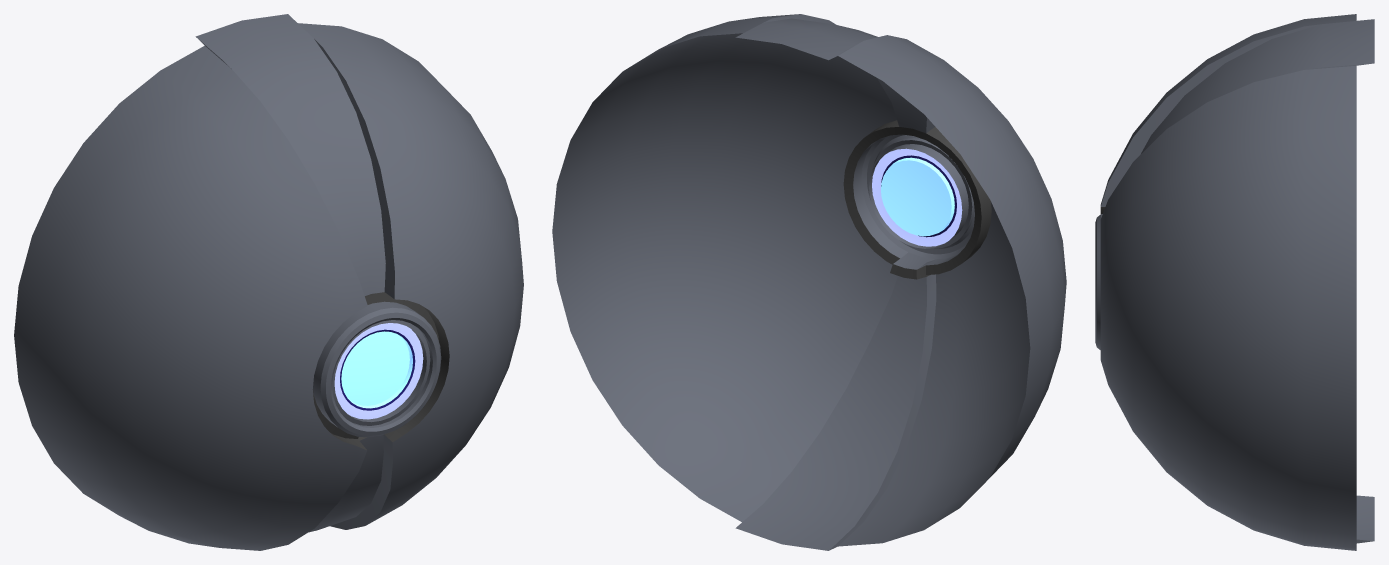
The model's file is SM_eye_scaner.fbx.
3 renders of one model, left to right at view 1: azimuth 30°, elevation 25°; view 2: azimuth 150°, elevation 25°; view 3: azimuth 270°, elevation 25°, orthographic. The views are drawn at different scales.
Parts seen in each view (by area): view 1: Eye_scaner; view 2: Eye_scaner; view 3: Eye_scaner.
Boxes of the visible parts, <box> form: Eye_scaner: <box>14,14,523,550</box>; Eye_scaner: <box>552,14,1066,550</box>; Eye_scaner: <box>1095,14,1374,550</box>.
Bounding box in the file's own units: 30.87 × 31.01 × 16.04.
